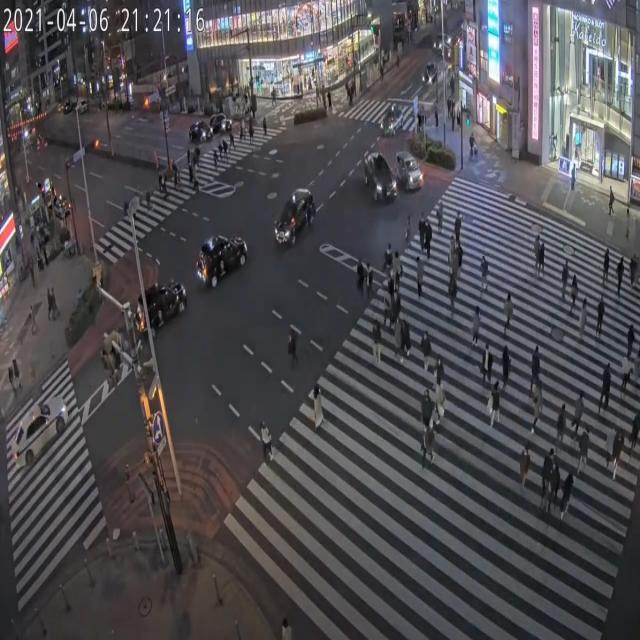bicycle: (466, 126, 480, 170)
humans: (252, 418, 275, 473), (309, 382, 327, 442), (599, 360, 613, 420), (574, 438, 595, 477), (416, 388, 434, 433), (411, 247, 426, 301), (550, 457, 564, 514), (555, 396, 568, 454), (368, 324, 384, 371), (566, 273, 582, 320), (562, 471, 574, 532), (434, 382, 447, 438), (502, 282, 516, 333), (284, 323, 298, 373), (530, 382, 542, 440), (363, 259, 377, 308), (598, 240, 611, 291), (420, 423, 434, 470), (518, 441, 530, 494), (490, 384, 501, 440), (605, 178, 617, 229), (353, 258, 366, 305), (610, 431, 622, 481), (542, 448, 551, 514), (420, 325, 432, 374), (499, 343, 510, 395), (531, 338, 541, 395), (572, 387, 583, 438), (393, 248, 406, 291), (620, 346, 631, 396), (560, 252, 570, 307), (445, 272, 458, 314), (453, 206, 465, 251), (470, 300, 482, 345), (478, 253, 491, 293), (532, 225, 542, 275), (393, 313, 402, 368), (595, 294, 605, 342), (540, 241, 552, 281), (401, 315, 411, 362), (393, 288, 404, 329), (424, 218, 433, 266), (383, 240, 393, 282), (404, 208, 412, 260), (623, 327, 635, 361), (433, 354, 444, 391), (579, 298, 588, 343), (614, 260, 625, 296), (569, 157, 579, 196), (455, 236, 464, 278), (434, 201, 444, 238), (480, 350, 490, 385), (633, 407, 640, 456), (385, 289, 394, 326), (628, 258, 638, 291), (626, 199, 632, 254), (448, 241, 456, 280), (420, 211, 424, 249)
